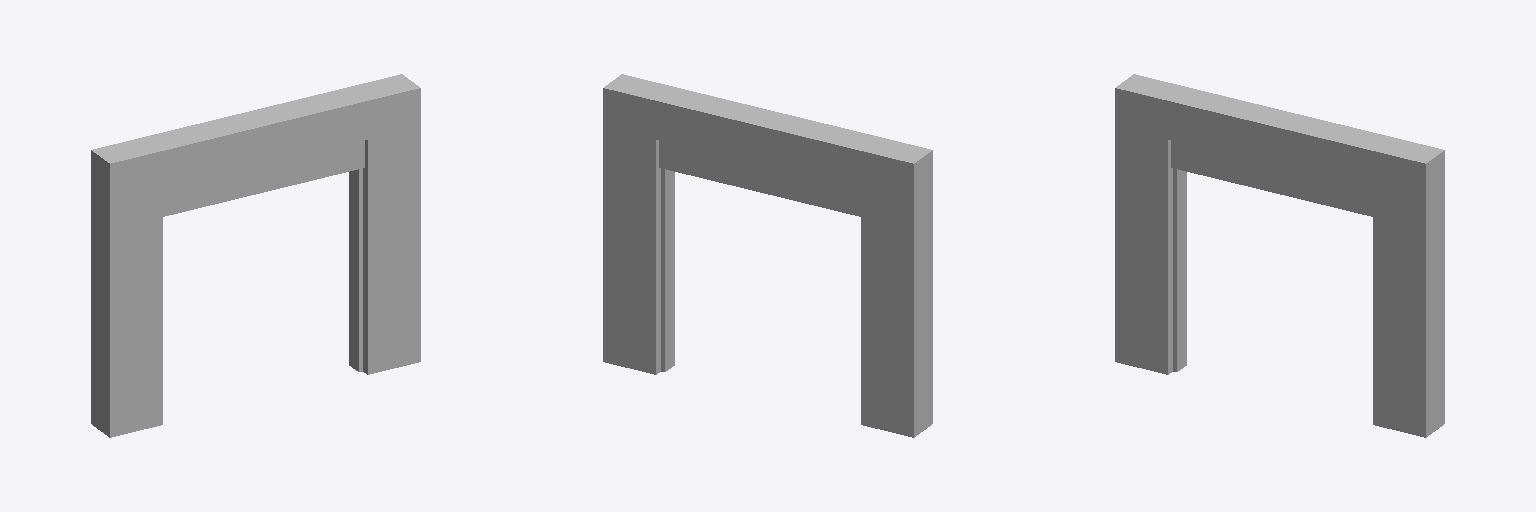
File: BigGlassEntrance.obj
3 views of the same model, side by side, from view 1: azimuth 30°, elevation 25°; view 2: azimuth 150°, elevation 25°; view 3: azimuth 330°, elevation 25° (orthographic).
Visible parts, largest first — view 1: BigGlassEntrance; view 2: BigGlassEntrance; view 3: BigGlassEntrance.
Part boxes in pixels (left/top/right/bottom): BigGlassEntrance: left=91, top=74, right=420, bottom=437; BigGlassEntrance: left=603, top=74, right=932, bottom=437; BigGlassEntrance: left=1115, top=74, right=1444, bottom=437.
Bounding box in the file's own units: 76 × 64 × 8.